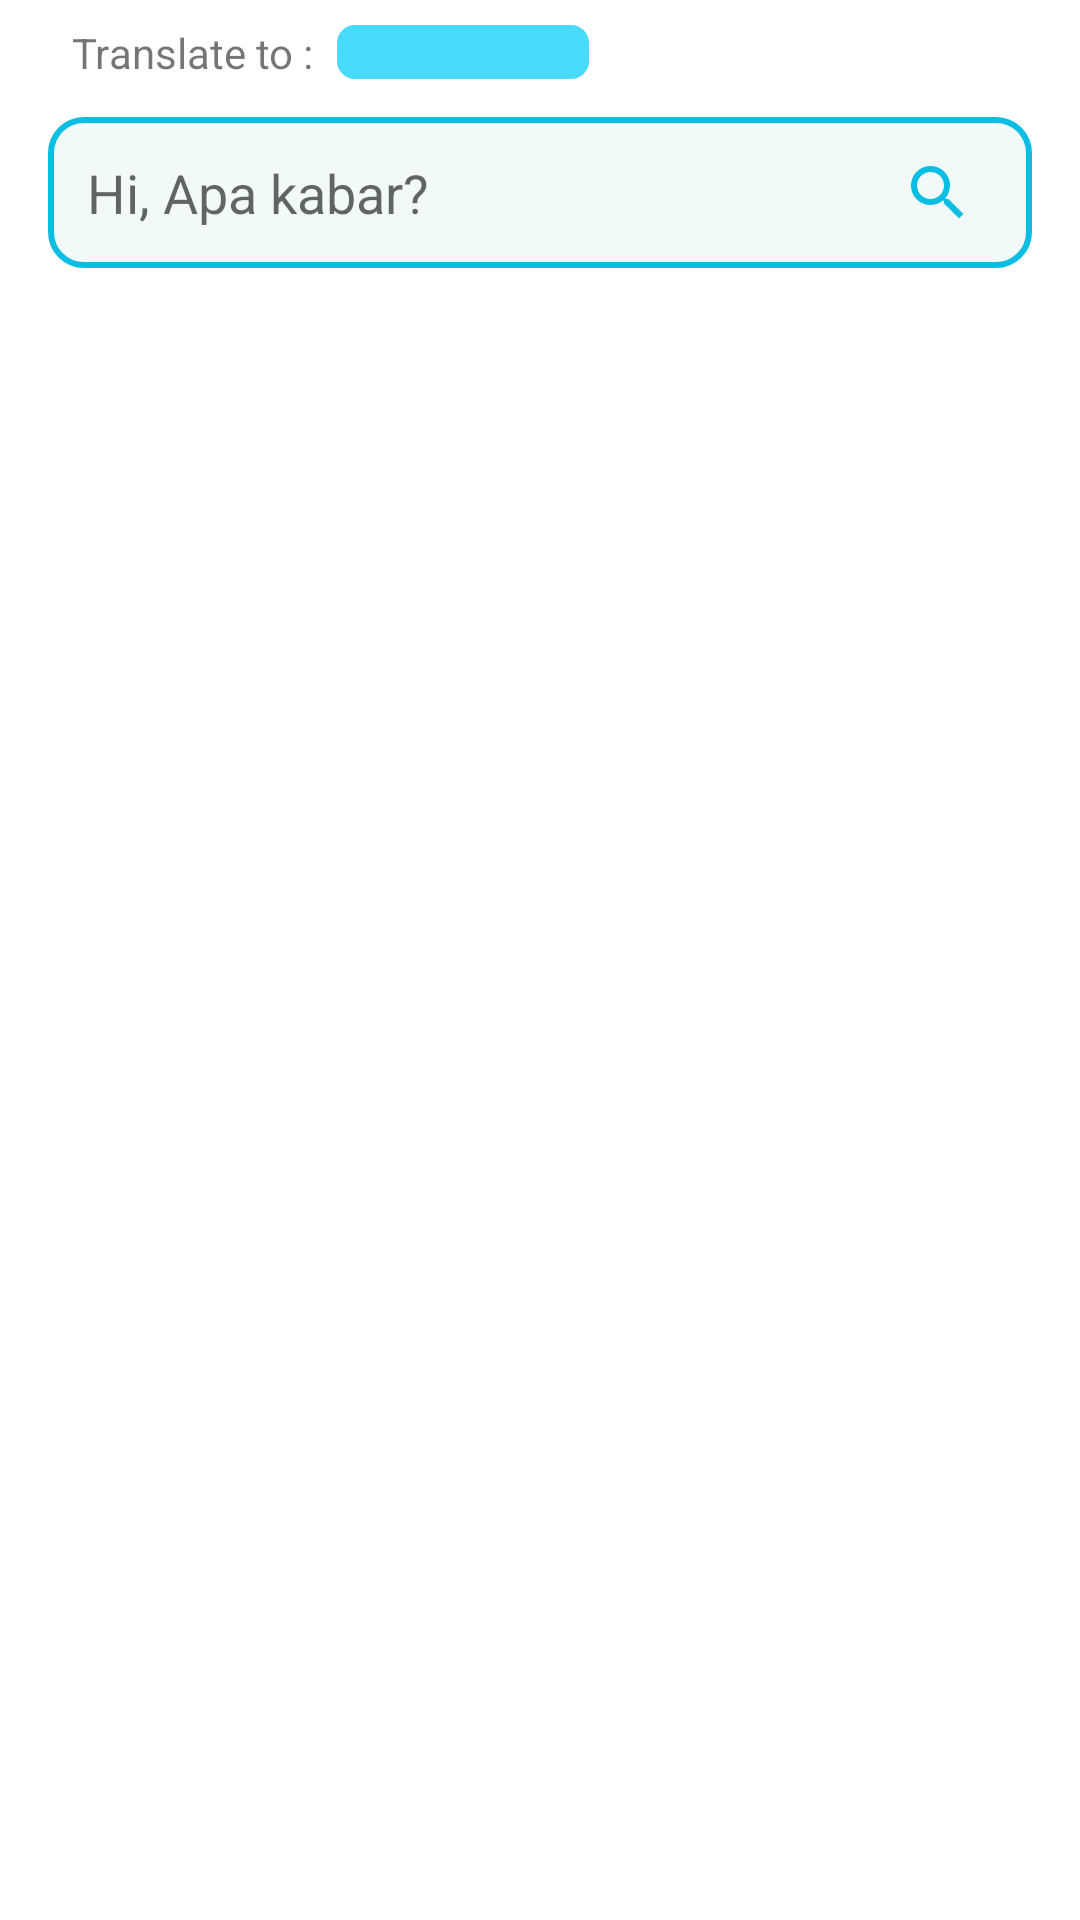

Icons on this 1080 x 1920 Android screen, each with its box as (x1, y1, x2, y2):
search: (911, 166, 963, 218)
